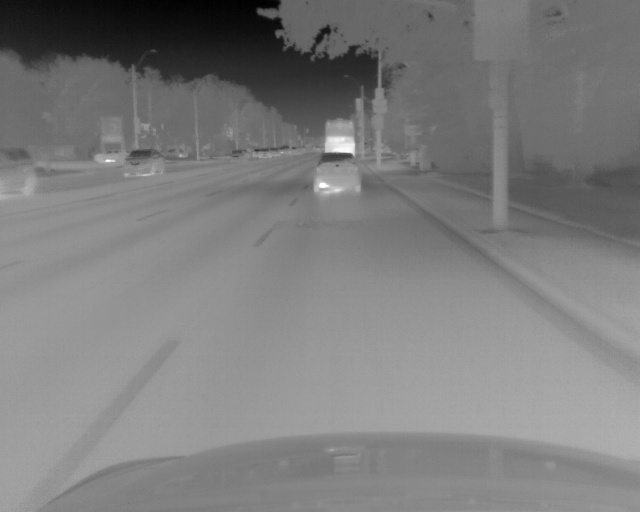car: (313, 152, 360, 194), (1, 148, 38, 196), (323, 118, 355, 156), (122, 149, 165, 177), (165, 148, 187, 159), (230, 149, 247, 162), (259, 149, 270, 159), (270, 148, 280, 157), (251, 149, 258, 158)
